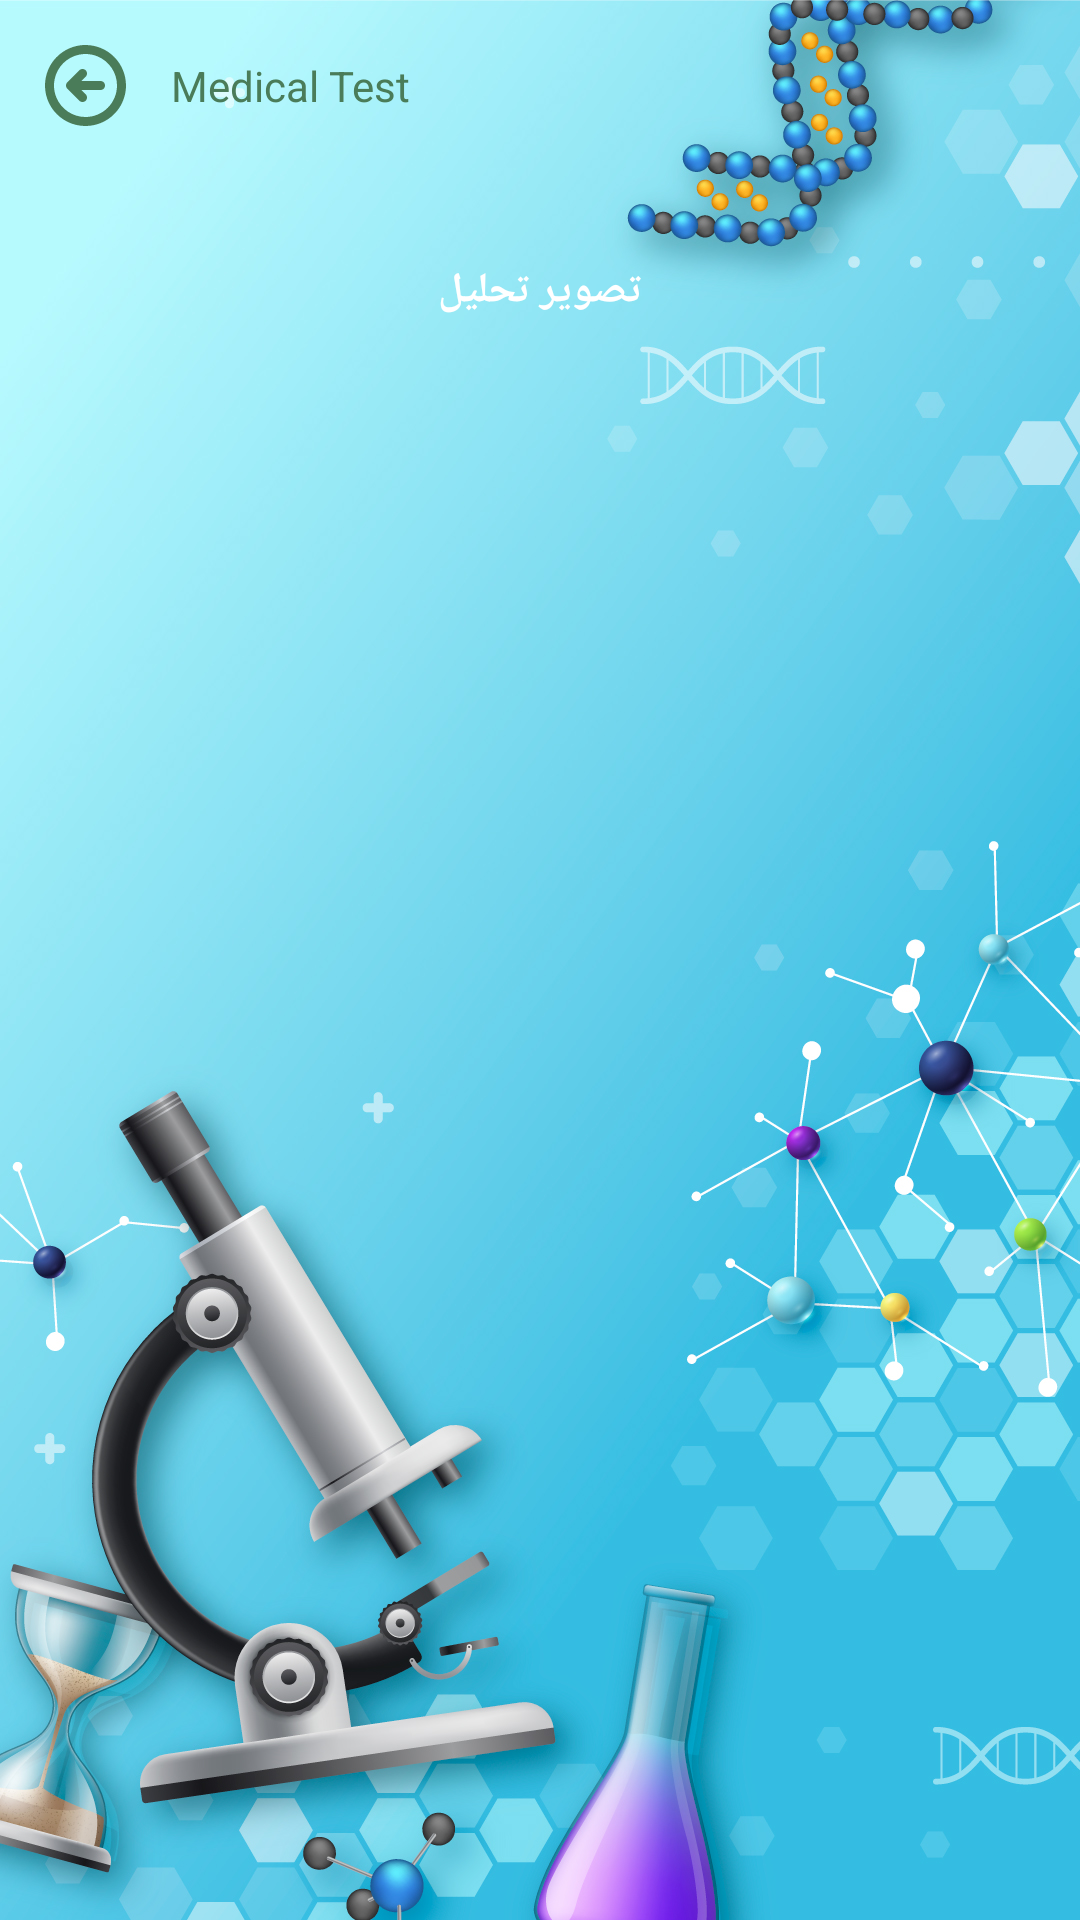

Point at icon controls on the screen. Image size 1080×1920, points as [x,y].
arrow back: [85,85]
